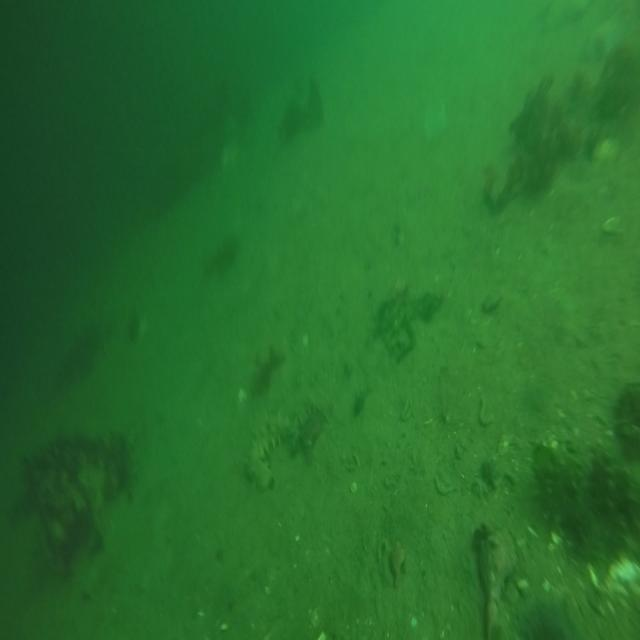holothurian: (244, 409, 295, 492)
